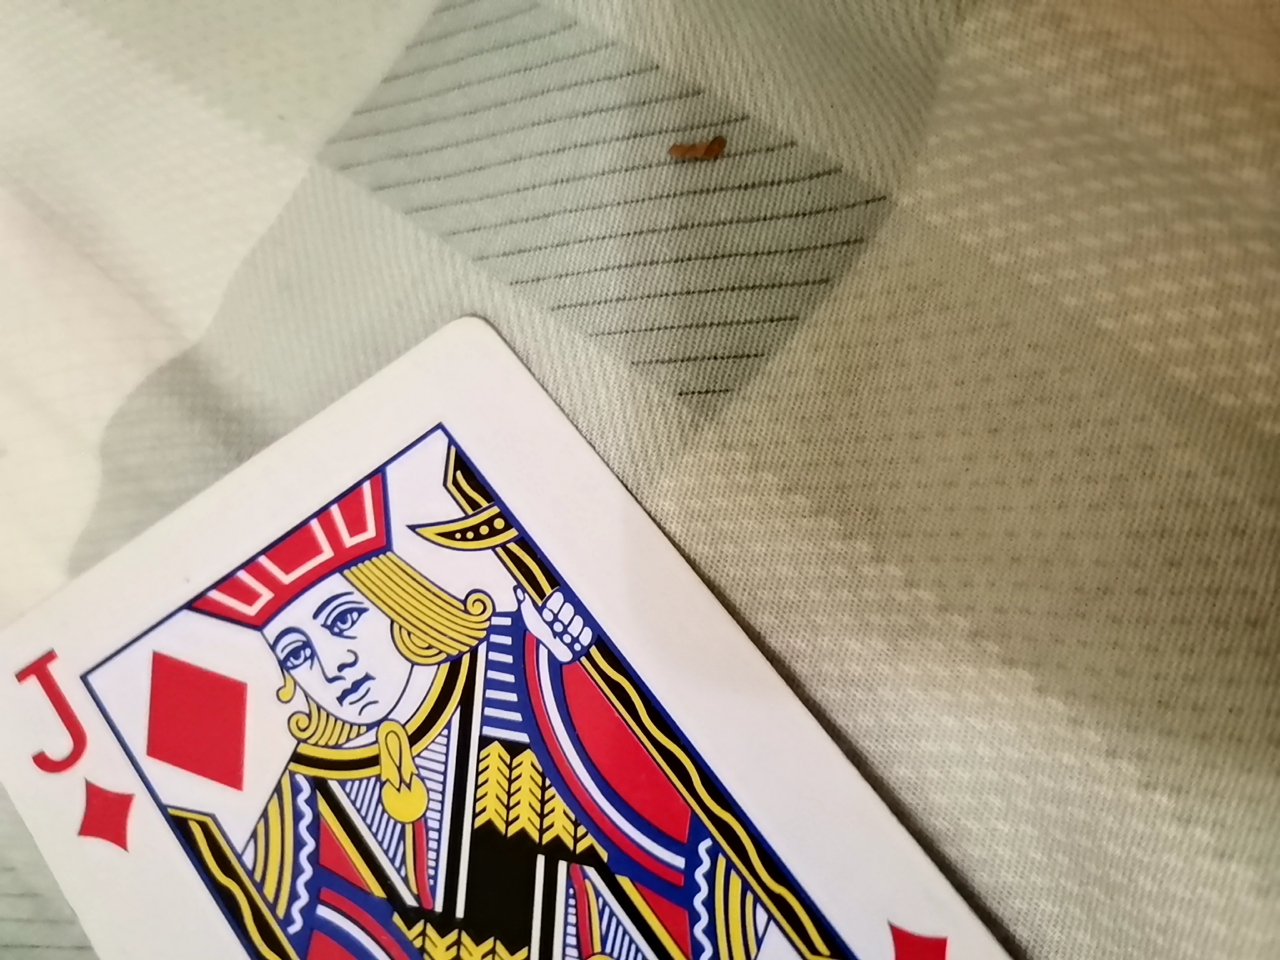fk j: (8, 311, 1114, 950)
